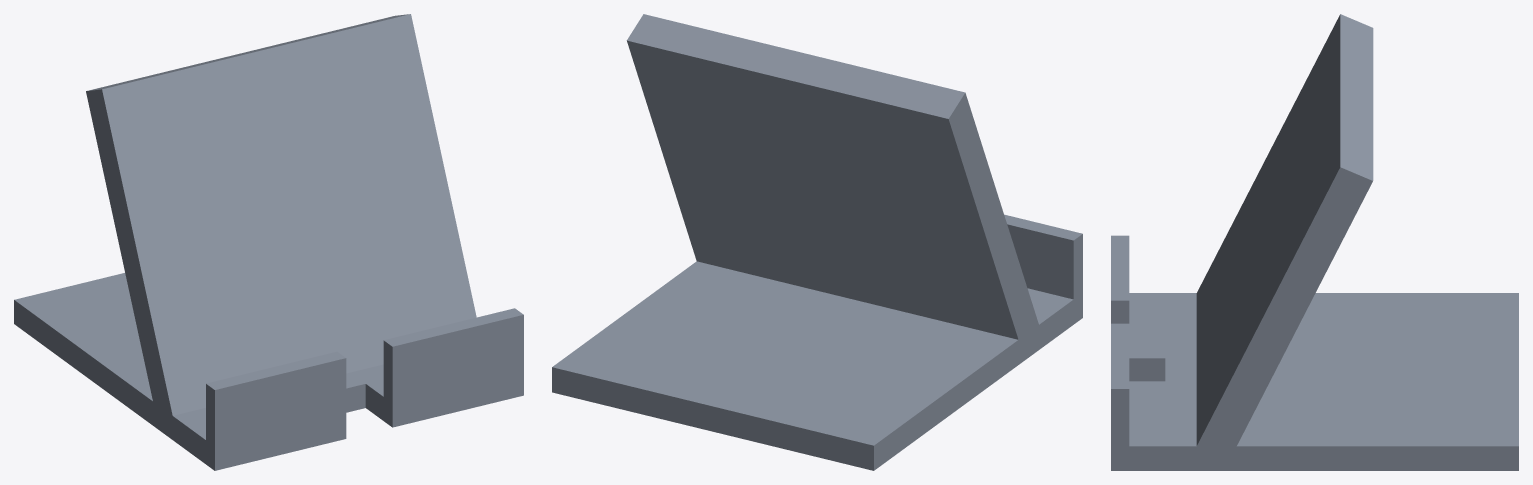
The model's file is step-2.glb.
3 renders of one model, left to right at view 1: azimuth 30°, elevation 25°; view 2: azimuth 150°, elevation 25°; view 3: azimuth 270°, elevation 25°, orthographic. The views are drawn at different scales.
Parts seen in each view (by area): view 1: face_d12ad28d6cee6353e29b, face_a4e2f3e39ab7b990631e, face_a2870cb091ba7ac0757b, face_001fbfae332467e7f6ec, face_12949c6af0727adacbb5, face_b61c70823852cb717660, face_faa8bc944f514353df51, face_d614f2933872b42bdae8, face_7f219050be70ed60dd67, face_677e854c2360f45b8074; view 2: face_6119663d325885a662f1, face_12949c6af0727adacbb5, face_a4e2f3e39ab7b990631e, face_677e854c2360f45b8074, face_50748392fe64b3cc2e5b, face_17b547ecac54cb5dc456, face_b61c70823852cb717660, face_7f219050be70ed60dd67; view 3: face_12949c6af0727adacbb5, face_d12ad28d6cee6353e29b, face_9036581d5accb01e5dbb, face_b61c70823852cb717660, face_677e854c2360f45b8074, face_e0d1e293870212614984, face_d614f2933872b42bdae8, face_7f219050be70ed60dd67.
Part boxes in pixels (box(x1,y1,x2,y2)): face_d12ad28d6cee6353e29b: box(102, 14, 476, 415); face_a4e2f3e39ab7b990631e: box(14, 89, 214, 470); face_a2870cb091ba7ac0757b: box(392, 315, 523, 427); face_001fbfae332467e7f6ec: box(215, 358, 346, 470); face_12949c6af0727adacbb5: box(14, 273, 152, 400); face_b61c70823852cb717660: box(173, 364, 383, 439); face_faa8bc944f514353df51: box(365, 340, 392, 427); face_d614f2933872b42bdae8: box(384, 308, 523, 346); face_7f219050be70ed60dd67: box(206, 351, 345, 389); face_677e854c2360f45b8074: box(87, 14, 408, 90); face_6119663d325885a662f1: box(627, 40, 1018, 339); face_12949c6af0727adacbb5: box(552, 261, 1018, 445); face_a4e2f3e39ab7b990631e: box(874, 93, 1082, 470); face_677e854c2360f45b8074: box(627, 14, 965, 118); face_50748392fe64b3cc2e5b: box(552, 367, 873, 470); face_17b547ecac54cb5dc456: box(1007, 224, 1073, 299); face_b61c70823852cb717660: box(1027, 288, 1073, 324); face_7f219050be70ed60dd67: box(1004, 214, 1082, 240); face_12949c6af0727adacbb5: box(1237, 293, 1518, 446); face_d12ad28d6cee6353e29b: box(1196, 14, 1340, 445); face_9036581d5accb01e5dbb: box(1111, 167, 1518, 470); face_b61c70823852cb717660: box(1129, 293, 1196, 446); face_677e854c2360f45b8074: box(1340, 14, 1373, 180); face_e0d1e293870212614984: box(1111, 300, 1165, 381); face_d614f2933872b42bdae8: box(1111, 323, 1129, 388); face_7f219050be70ed60dd67: box(1111, 235, 1129, 300).
Size of the model in its own units: 0.08 by 0.074 by 0.09.
